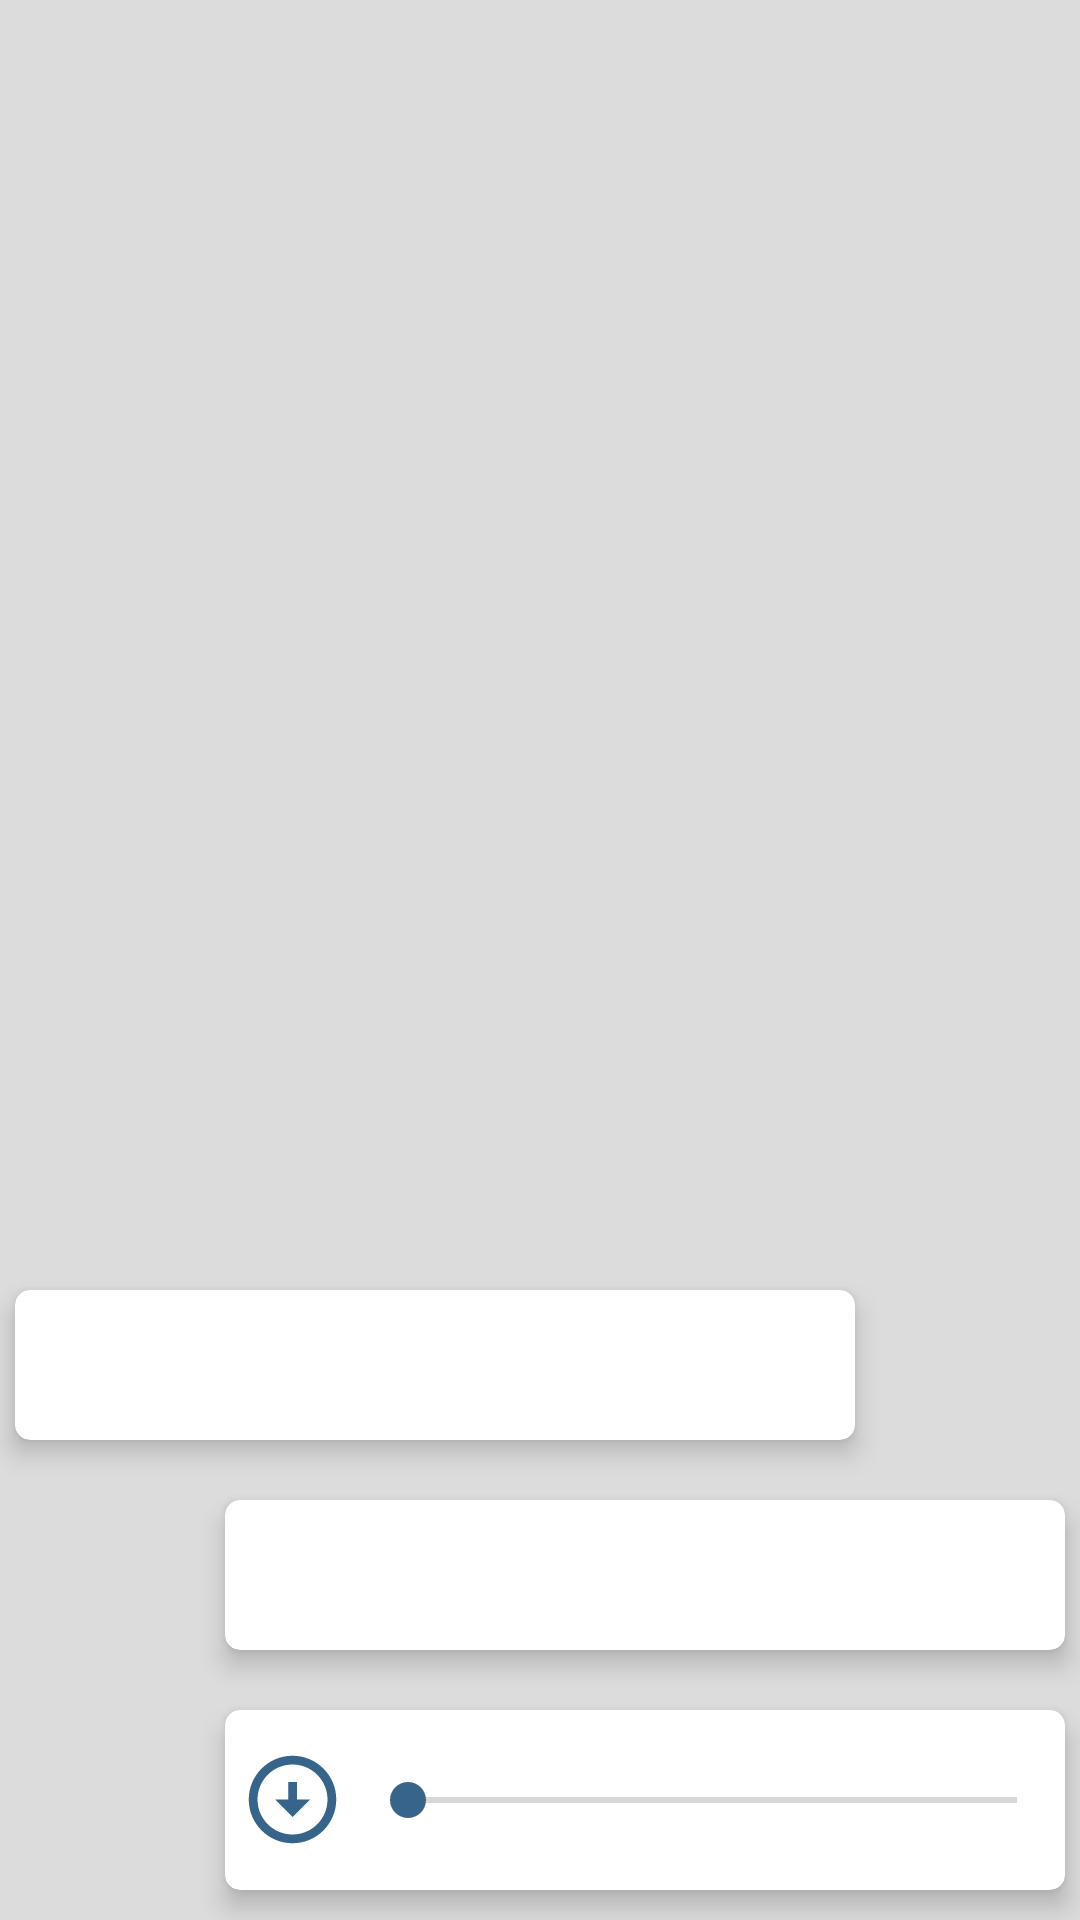

Icons on this 1080×1920 Android screen, each with its box as (x1, y1, x2, y2):
download: (248, 1755, 337, 1844)
